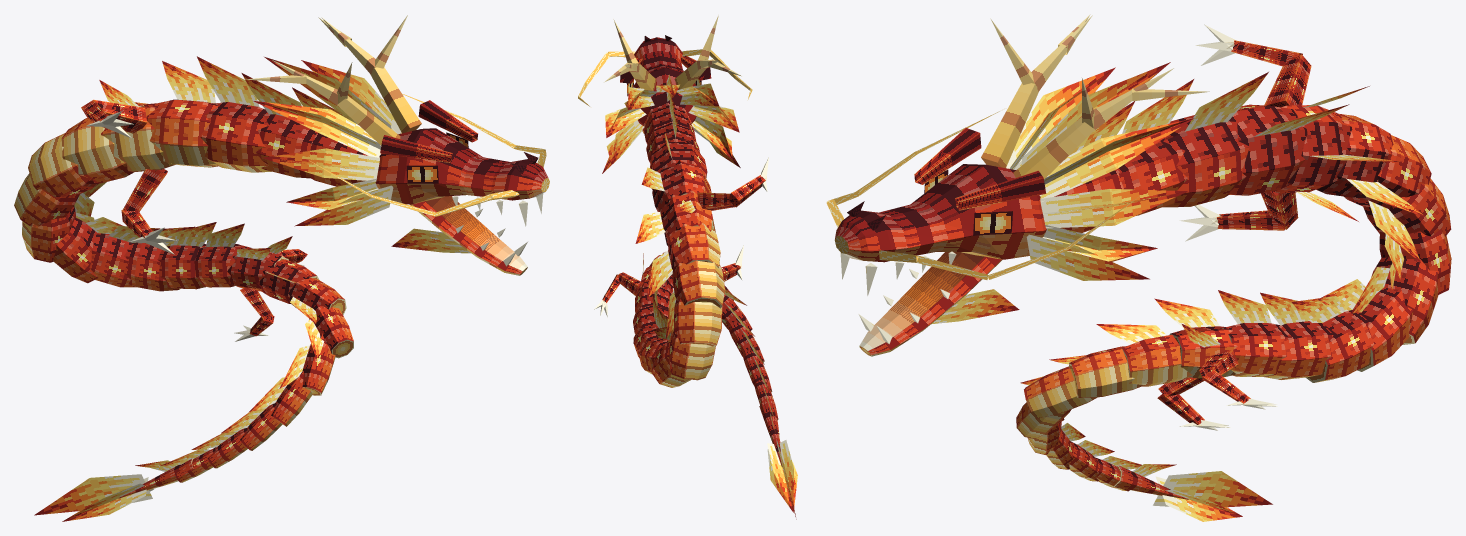
File: SunfireWyrm_Reared.obj
The picture shows the model from 3 angles, left to right: view 1: azimuth 30°, elevation 25°; view 2: azimuth 150°, elevation 25°; view 3: azimuth 270°, elevation 25°; orthographic projection. The views are drawn at different scales.
Parts seen in each view (by area): view 1: Head, Body_04, Body_02, Body_03, Jaw, Body_23, Body_01, Body_14, Body_05, Body_06, Body_12, Body_09 (+14 smaller); view 2: Head, Body_04, Body_05, Body_06, Body_07, Body_23, Body_03, Body_08, Body_02, Body_01, Body_09, Body_14 (+9 smaller); view 3: Head, Body_04, Jaw, Body_02, Body_14, Body_03, Body_23, Body_01, Body_05, Body_13, Body_11, Body_12 (+13 smaller).
Boxes of the visible parts, bbox=[...] form: Head: bbox=[244, 15, 549, 226]; Body_04: bbox=[81, 80, 176, 254]; Body_02: bbox=[197, 56, 271, 172]; Body_03: bbox=[146, 61, 218, 167]; Jaw: bbox=[391, 196, 527, 275]; Body_23: bbox=[34, 458, 193, 521]; Body_01: bbox=[241, 73, 316, 178]; Body_14: bbox=[227, 236, 307, 341]; Body_05: bbox=[61, 118, 133, 183]; Body_06: bbox=[28, 133, 106, 197]; Body_12: bbox=[157, 222, 216, 289]; Body_09: bbox=[53, 217, 122, 283]; Head: bbox=[578, 15, 752, 173]; Body_04: bbox=[635, 157, 768, 281]; Body_05: bbox=[647, 222, 720, 298]; Body_06: bbox=[665, 260, 725, 339]; Body_07: bbox=[669, 298, 722, 346]; Body_23: bbox=[759, 400, 797, 519]; Body_03: bbox=[641, 160, 711, 211]; Body_08: bbox=[667, 330, 715, 380]; Body_02: bbox=[650, 133, 707, 189]; Body_01: bbox=[646, 113, 700, 163]; Body_09: bbox=[651, 327, 690, 387]; Body_14: bbox=[594, 253, 674, 317]; Head: bbox=[826, 14, 1209, 295]; Body_04: bbox=[1179, 24, 1404, 241]; Jaw: bbox=[858, 252, 1019, 356]; Body_02: bbox=[1163, 72, 1268, 207]; Body_14: bbox=[1154, 298, 1277, 430]; Body_03: bbox=[1228, 104, 1349, 195]; Body_23: bbox=[1108, 464, 1272, 521]; Body_01: bbox=[1117, 79, 1193, 215]; Body_05: bbox=[1316, 113, 1426, 217]; Body_13: bbox=[1218, 290, 1288, 376]; Body_11: bbox=[1291, 296, 1374, 382]; Body_12: bbox=[1260, 292, 1333, 379].
Bounding box in the file's own units: 4.05 × 5.07 × 4.66.
1 material, 1 textured.
